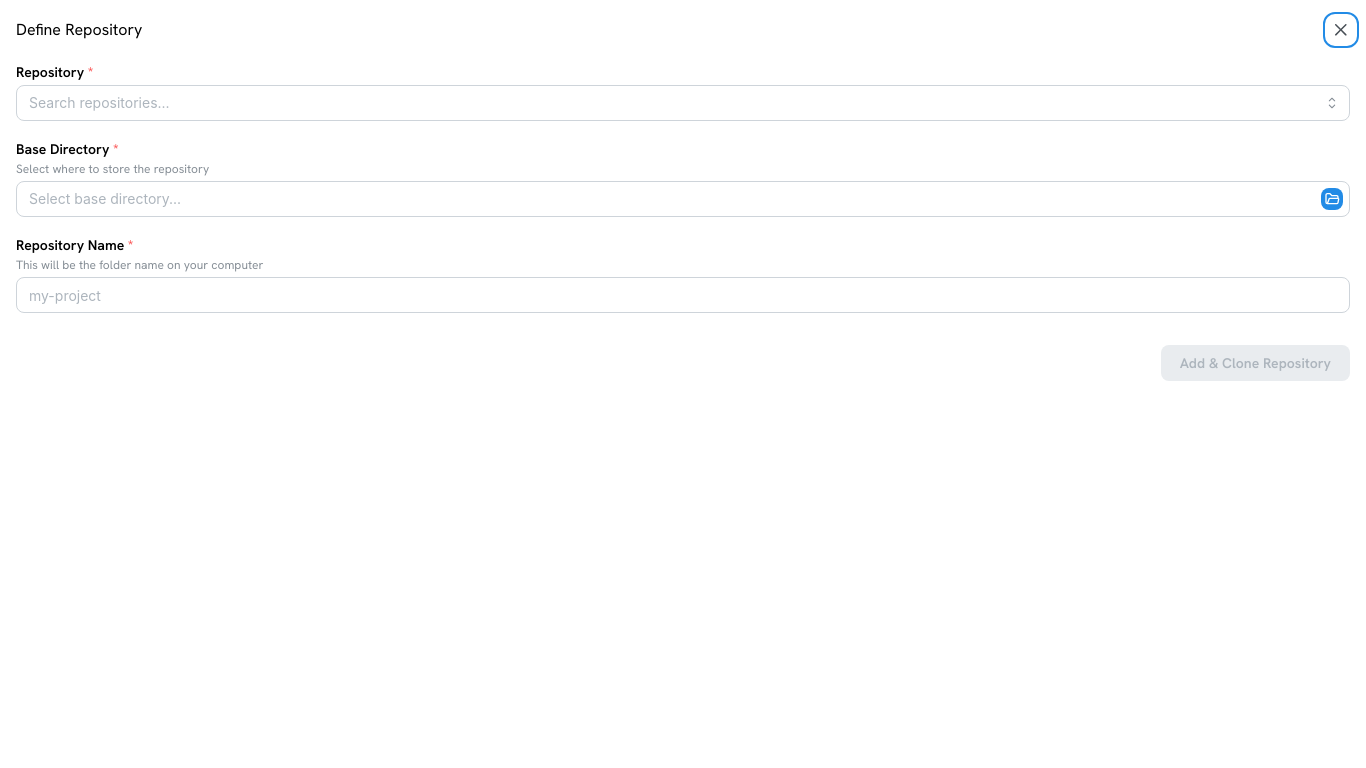
Test: AddRepositoryModal › should switch to existing mode when the selected directory is a working copy
The image size is (1366, 768).
# picking the directory
Click the button named "Select base directory" at (1332, 199), box [1321,188,1343,210]
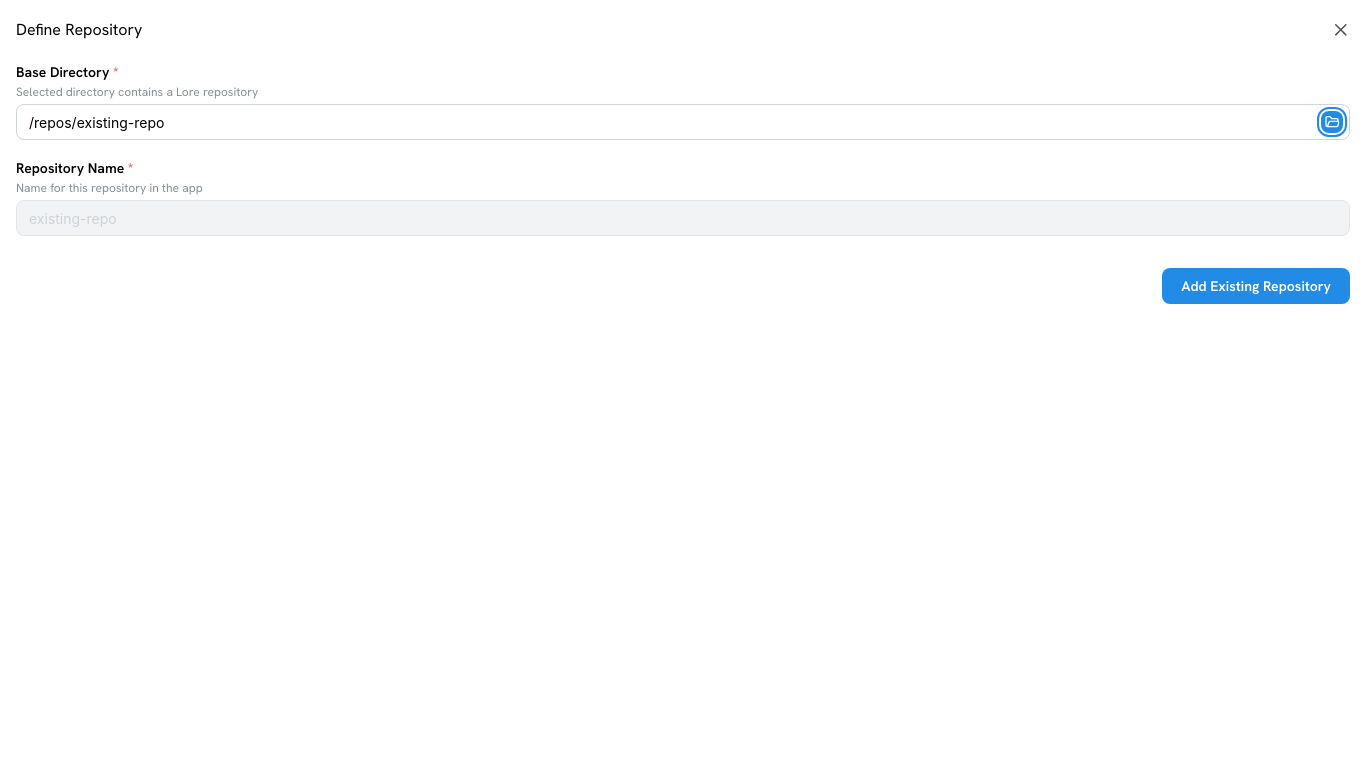
Expected: the text "Selected directory contains a Lore repository" is shown, [16,84,258,100]
Expected: the field labelled "Repository Name *" holds "existing-repo", [16,200,1350,236]
Expected: the button "Add Existing Repository" is shown, [1162,268,1350,304]
